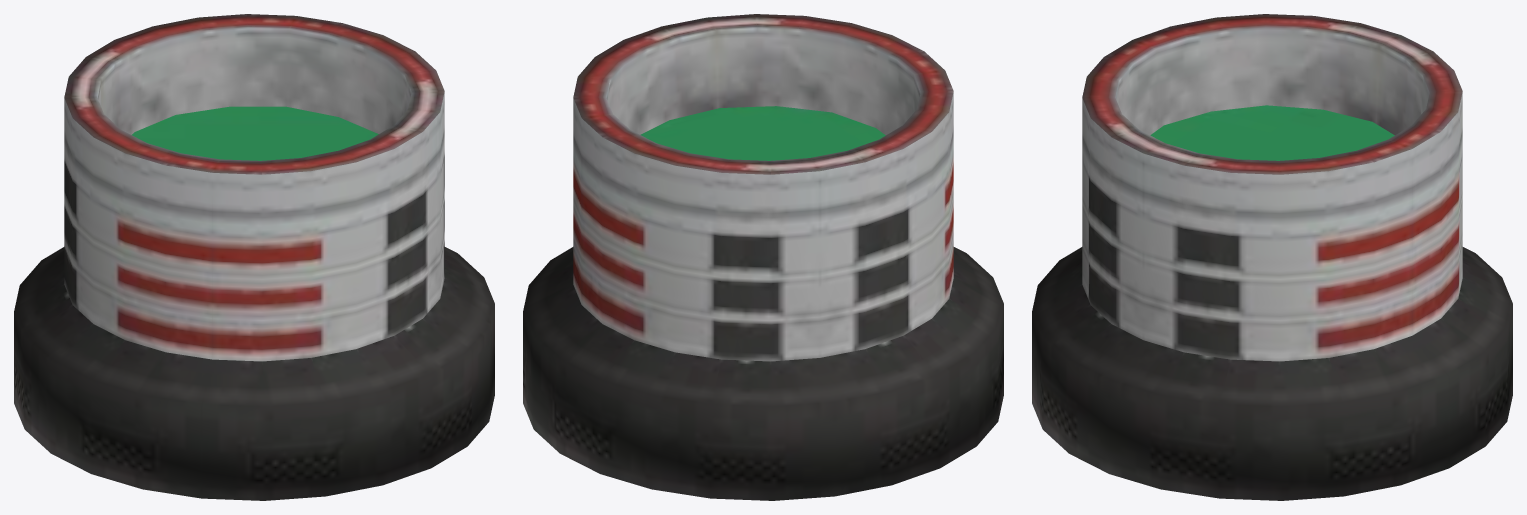
The model's file is Part - Extras 08-B6DNhT-C.glb.
3 views of the same model, side by side, from view 1: azimuth 30°, elevation 25°; view 2: azimuth 150°, elevation 25°; view 3: azimuth 270°, elevation 25° (orthographic).
Parts seen in each view (by area): view 1: Extras_08, Extras_08_liq; view 2: Extras_08, Extras_08_liq; view 3: Extras_08, Extras_08_liq.
Boxes of the visible parts, bbox=[...] form: Extras_08: bbox=[14, 14, 494, 500]; Extras_08_liq: bbox=[132, 106, 378, 160]; Extras_08: bbox=[523, 14, 1003, 500]; Extras_08_liq: bbox=[640, 106, 885, 160]; Extras_08: bbox=[1032, 14, 1512, 500]; Extras_08_liq: bbox=[1150, 105, 1394, 160].
Size of the model in its own units: 1.73 by 1.21 by 1.73.
Materials: 1 (1 with a texture image).
